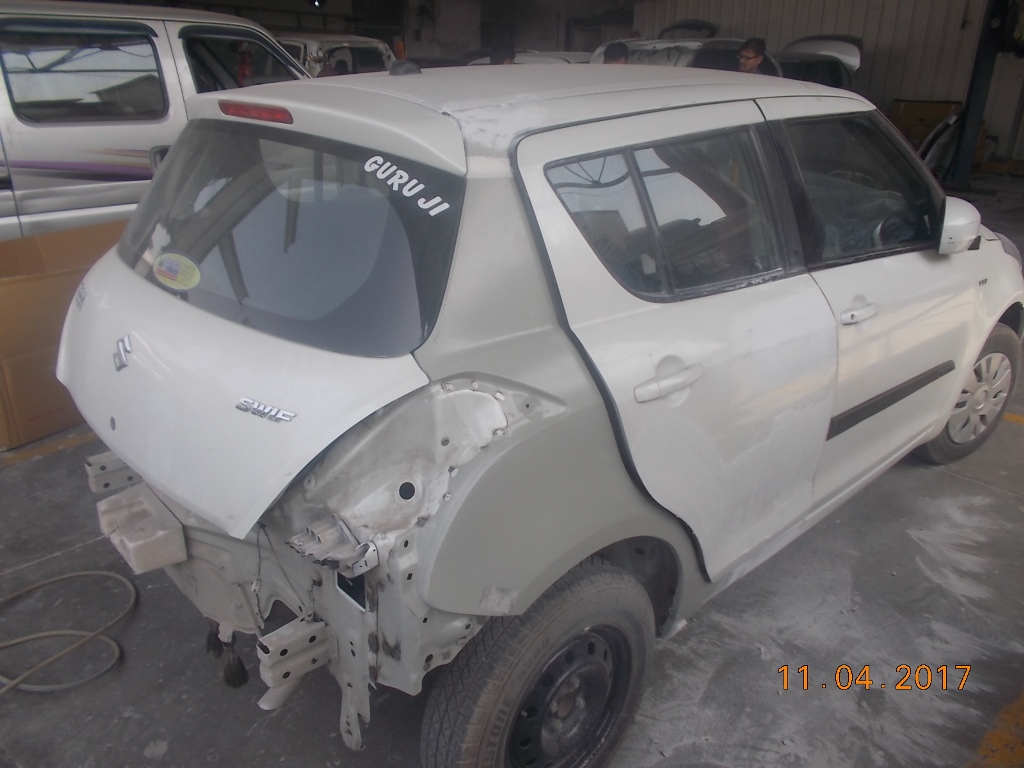Large_tear_or_damage: (49, 367, 597, 765)
